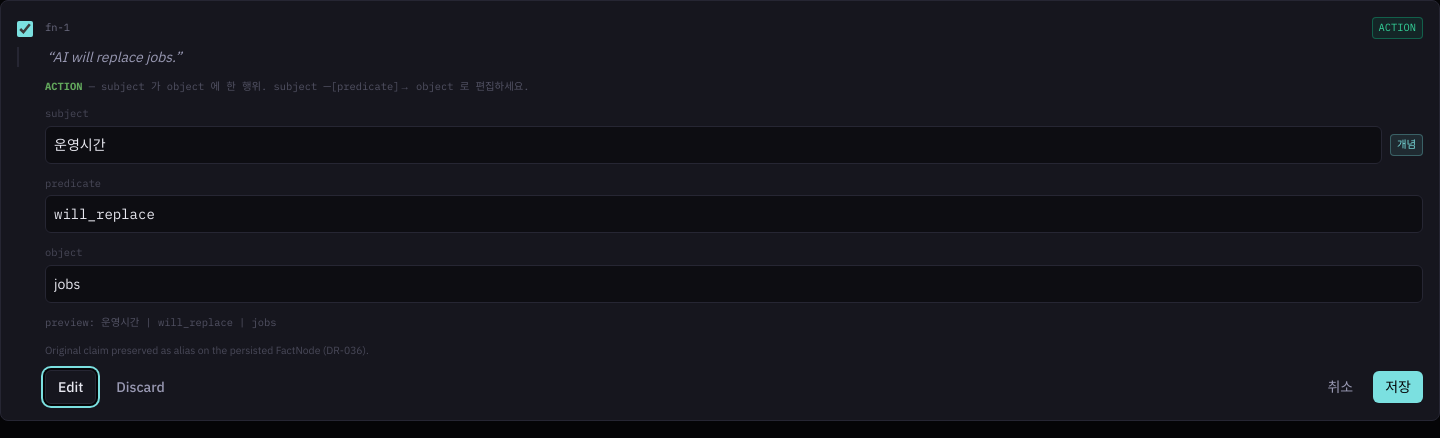
it: FactCard — decide-ux-fix #3: 저장 button › clicking 저장 closes the edit form but keeps action=edit on the card
Expected: the field with test id "fact-edit-subject-fn-1" is shown, [45,126,1382,164]
Click the button with test id "fact-save-fn-1".
click(1398, 387)  # box [1373,371,1423,403]
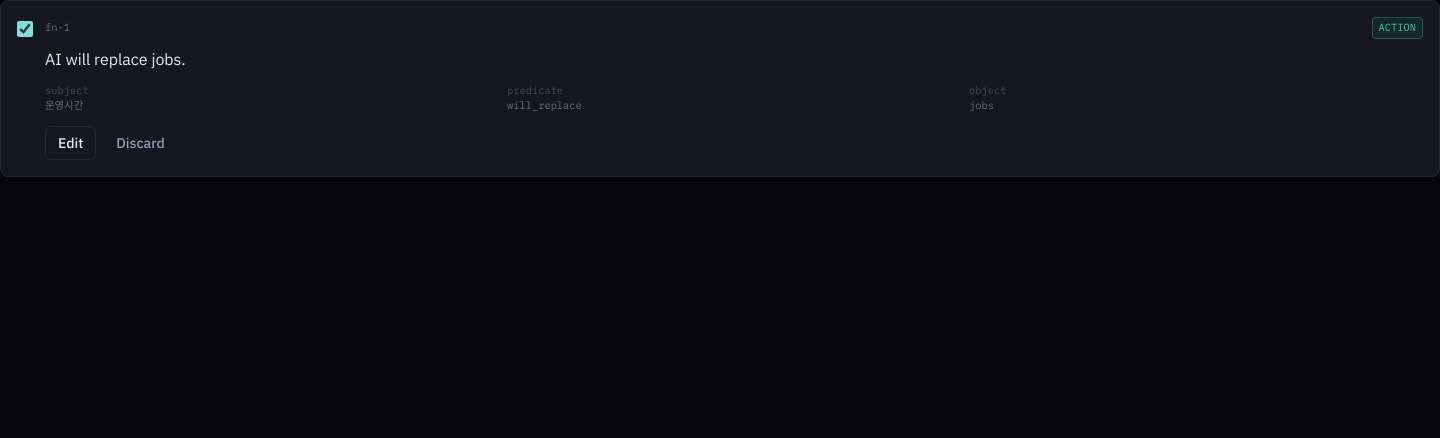
Now the field with test id "fact-edit-subject-fn-1" is gone
